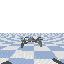drone: (19, 37, 43, 48)
